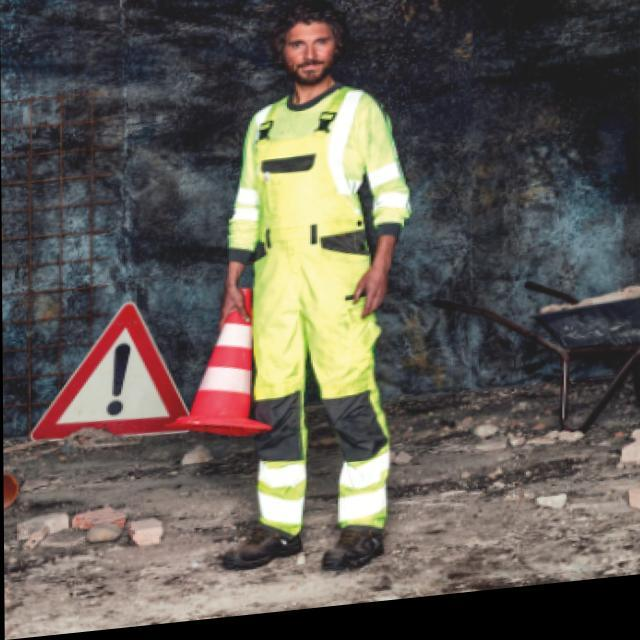boots: (211, 499, 396, 587)
vest: (250, 76, 379, 265)
